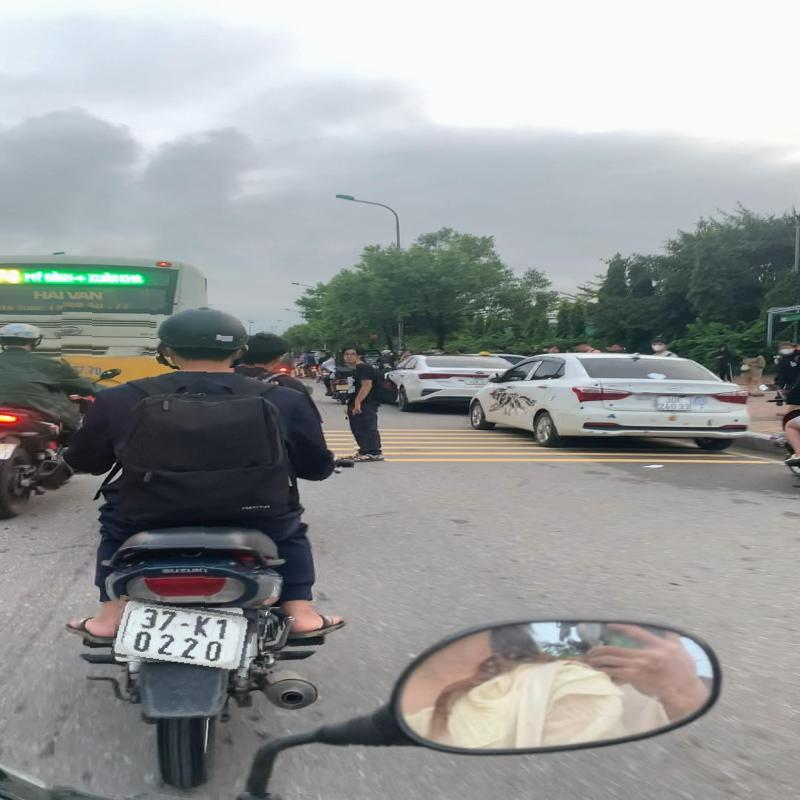helmet: (156, 305, 256, 368)
licenseplate: (112, 600, 253, 672)
motorcyclist: (55, 303, 354, 794)
